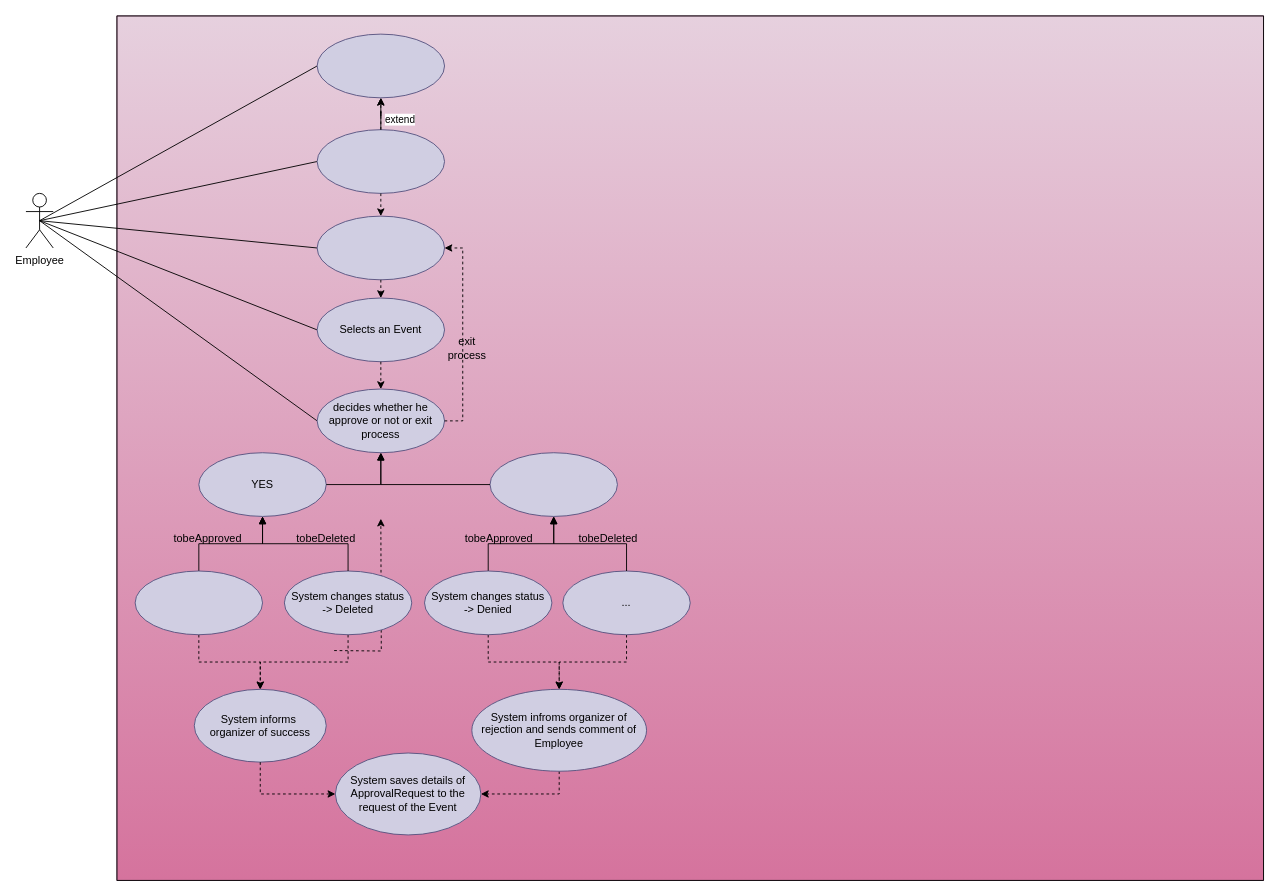
The diagram is 1279 pixels wide and 896 high, and some of its shapes have lost their labels. The box of each missing label's shape, as (x1, y1, x2, y2) in pixels:
filter to view only Requests: (316, 129, 445, 193)
NO: (489, 452, 617, 516)
System changes status -> Approved: (134, 570, 263, 635)
View List of Active Requests: (316, 215, 445, 280)
View List of Events: (316, 33, 445, 98)
